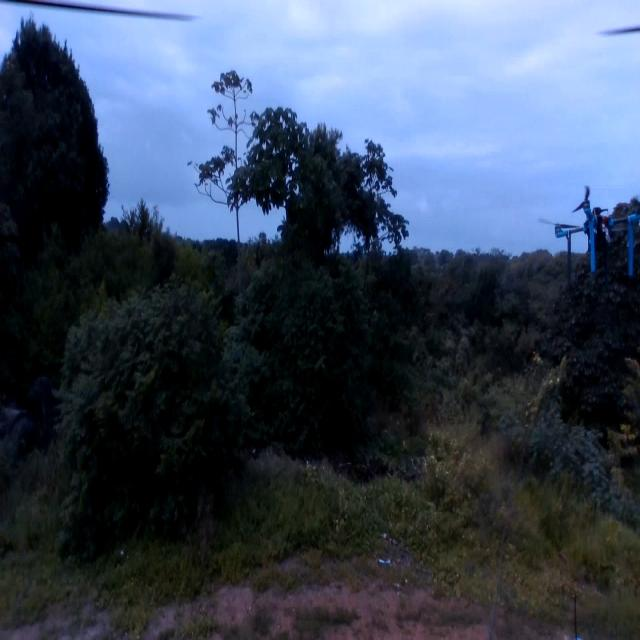-uav-: (536, 178, 640, 298)
